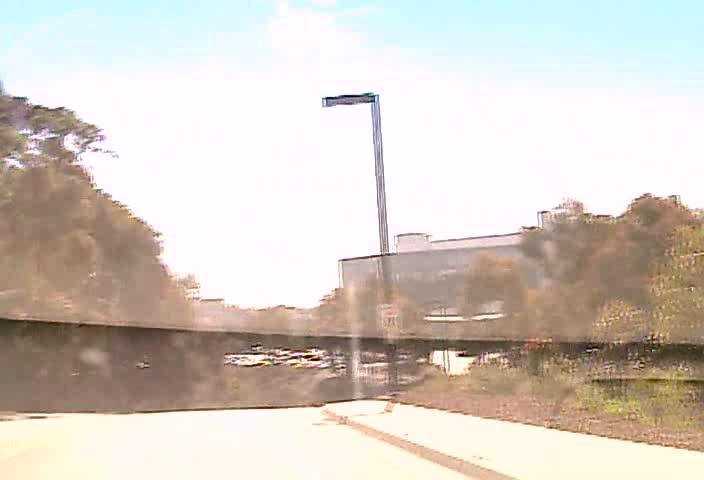speedLimitUrdbl: (376, 302, 401, 333)
